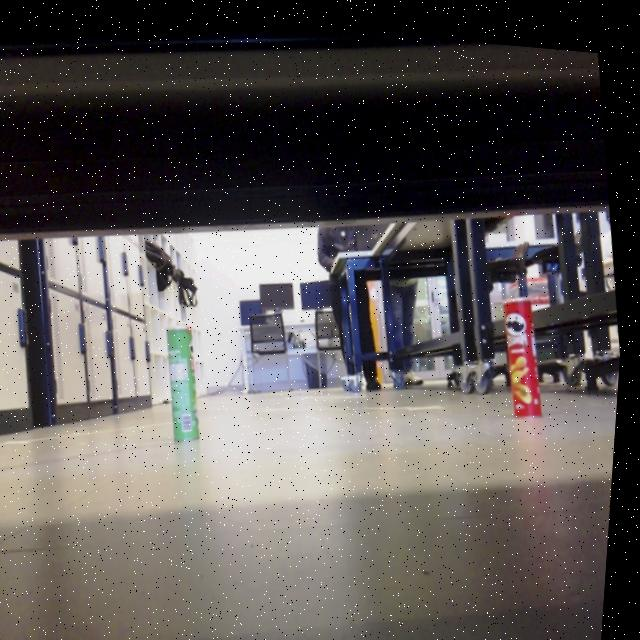greenpringles: (152, 313, 223, 456)
redpringles: (495, 268, 556, 421)
